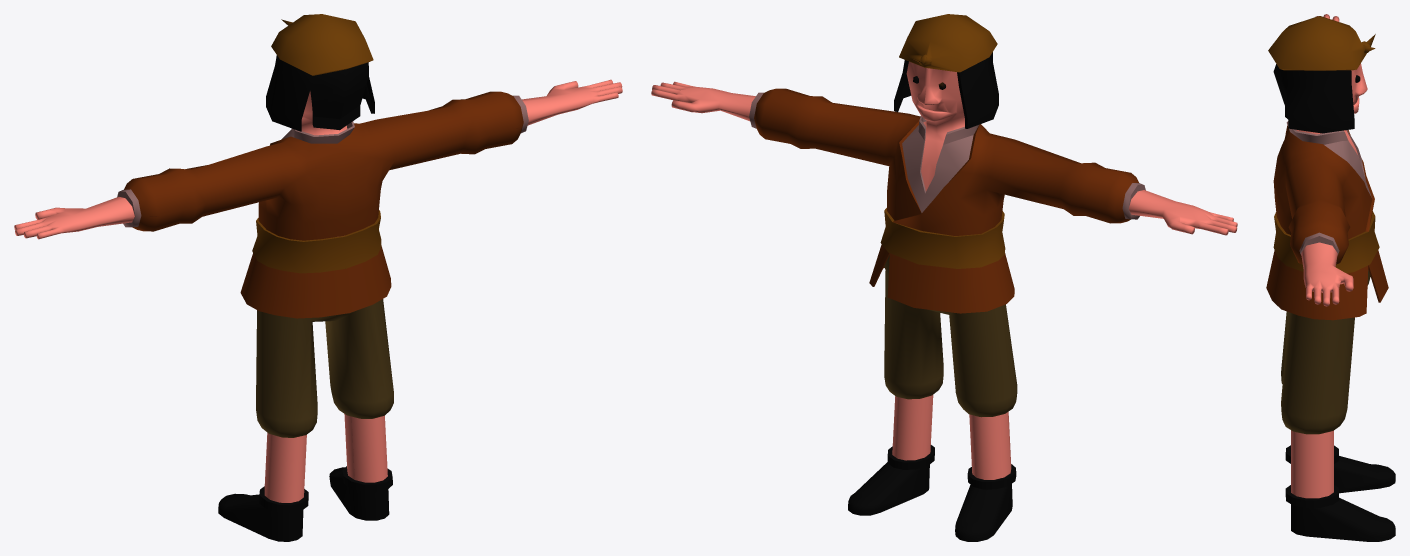
The model's file is main character.fbx.
3 views of the same model, side by side, from view 1: azimuth 30°, elevation 25°; view 2: azimuth 150°, elevation 25°; view 3: azimuth 270°, elevation 25° (orthographic). The views are drawn at different scales.
Parts seen in each view (by area): view 1: Cube.001; view 2: Cube.001; view 3: Cube.001.
Part boxes in pixels (x1=…): Cube.001: x1=14, y1=14, x2=622, y2=541; Cube.001: x1=651, y1=14, x2=1237, y2=541; Cube.001: x1=1266, y1=14, x2=1395, y2=541.
Bounding box in the file's own units: 1385 × 1108 × 264.
Materials: 1 (1 with a texture image).
